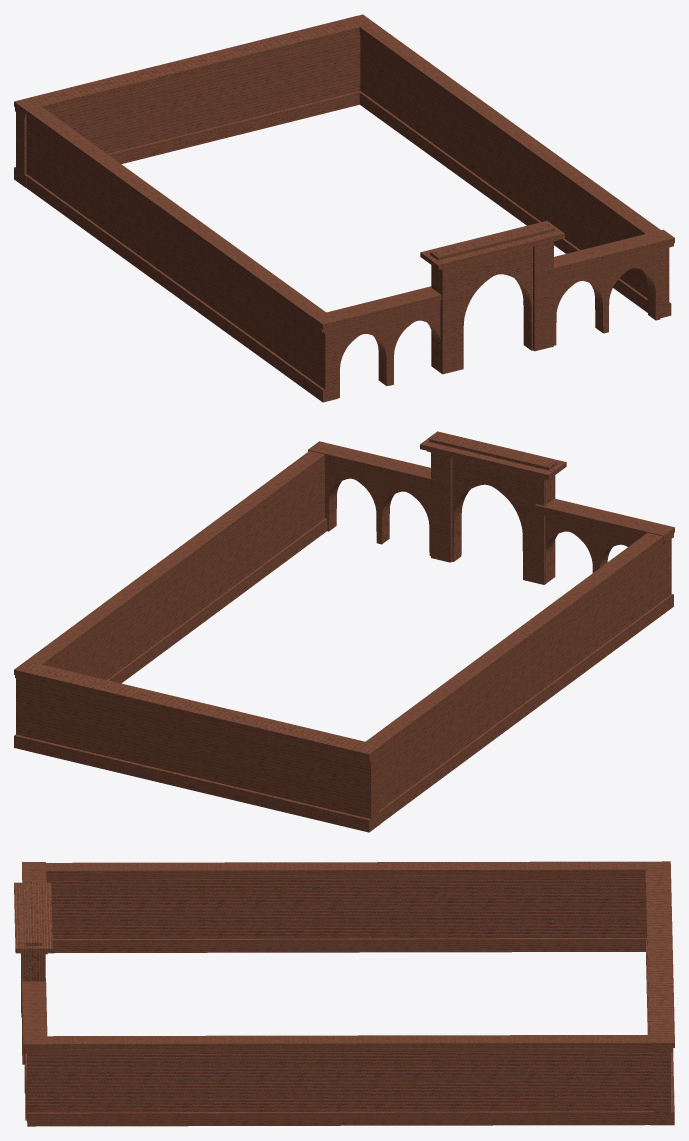
The model's file is Fachada2.obj.
3 views of the same model, one above another, from view 1: azimuth 30°, elevation 25°; view 2: azimuth 150°, elevation 25°; view 3: azimuth 270°, elevation 25° (orthographic). The views are drawn at different scales.
Parts seen in each view (by area): view 1: polySurface19; view 2: polySurface19; view 3: polySurface19.
Part boxes in pixels (x1=…): polySurface19: x1=14, y1=14, x2=674, y2=402; polySurface19: x1=14, y1=431, x2=674, y2=832; polySurface19: x1=14, y1=861, x2=674, y2=1126.
Size of the model in its own units: 21.08 by 6.62 by 32.09.
Materials: 10 (10 with a texture image).
